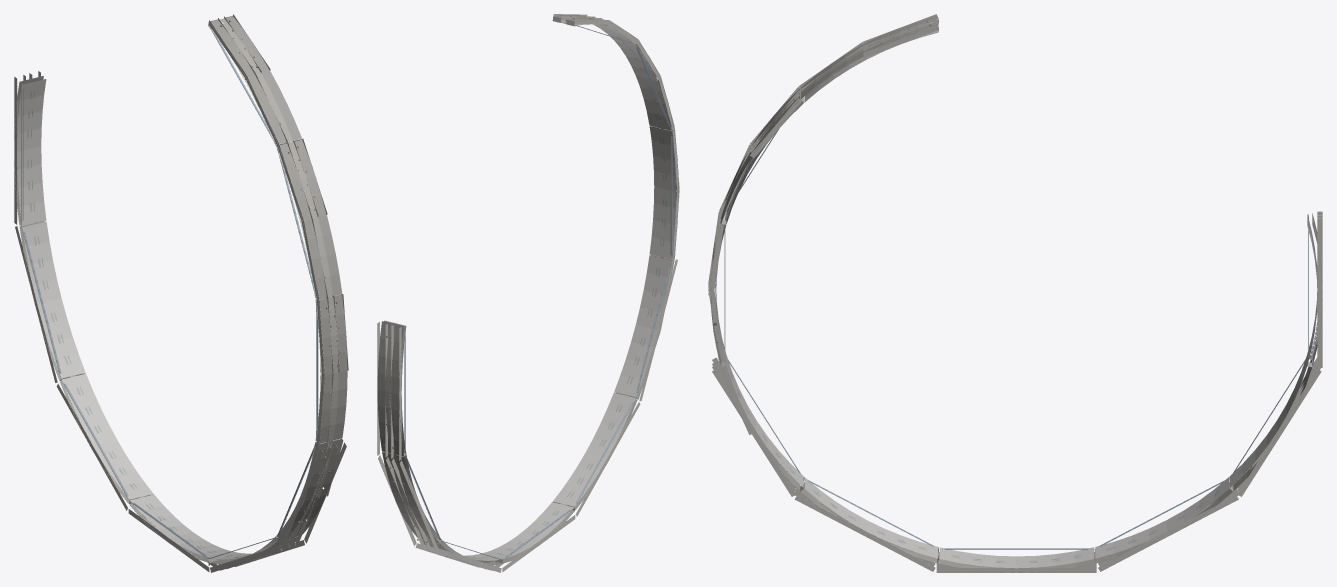
The model's file is xuanshu_interior_C17.glb.
3 renders of one model, left to right at view 1: azimuth 30°, elevation 25°; view 2: azimuth 150°, elevation 25°; view 3: azimuth 270°, elevation 25°, orthographic. The views are drawn at different scales.
Visible parts, largest first — view 1: UNIT-FOD-004, UNIT-HYG-002, UNIT-GER-001, UNIT-MED-003_S0; view 2: UNIT-GER-001, UNIT-HYG-002, UNIT-FOD-004; view 3: UNIT-GER-001, UNIT-HYG-002, UNIT-FOD-004.
Boxes of the visible parts, x1,y1,x2,y2 form: UNIT-FOD-004: [208, 14, 348, 445]; UNIT-HYG-002: [14, 71, 153, 510]; UNIT-GER-001: [128, 438, 346, 572]; UNIT-MED-003_S0: [277, 439, 343, 542]; UNIT-GER-001: [483, 254, 677, 572]; UNIT-HYG-002: [377, 320, 503, 572]; UNIT-FOD-004: [552, 14, 679, 259]; UNIT-GER-001: [712, 355, 1096, 572]; UNIT-HYG-002: [1094, 211, 1322, 571]; UNIT-FOD-004: [708, 14, 938, 366].
Size of the model in its own units: 17.31 by 374 by 380.
